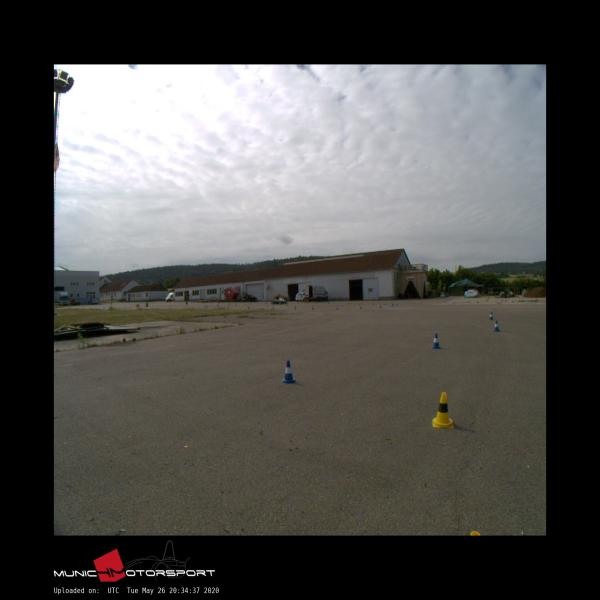blue_cone: (281, 360, 297, 383), (431, 333, 441, 348), (492, 320, 500, 332), (489, 312, 493, 320)
yellow_cone: (432, 392, 454, 428)
